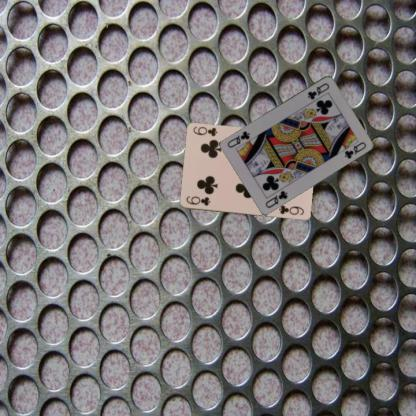6c: (183, 193, 212, 207)
Qc: (263, 188, 289, 209), (305, 80, 331, 100)
